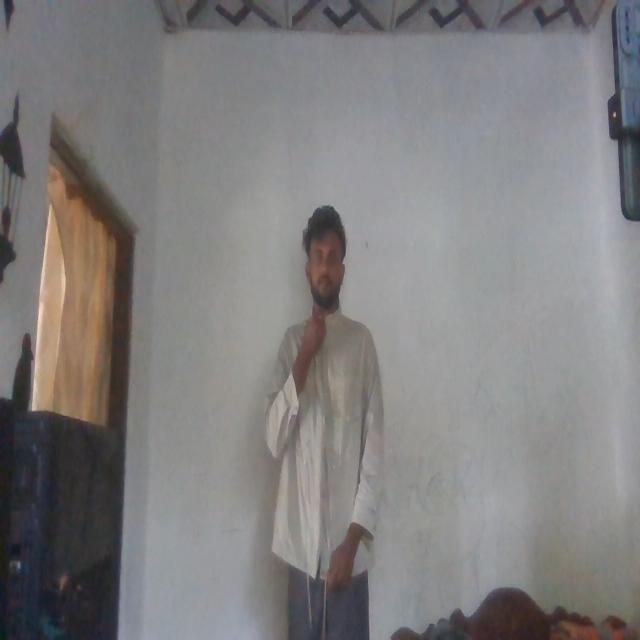Jacket_Wearer: (262, 306, 382, 578)
Person: (258, 184, 396, 636)
